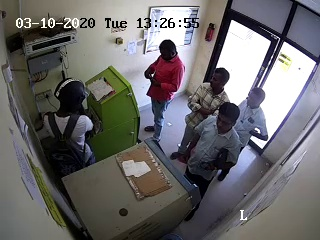helmet: (55, 73, 92, 116)
